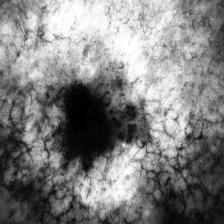Benign Marking or Mole: (57, 86, 118, 173)
